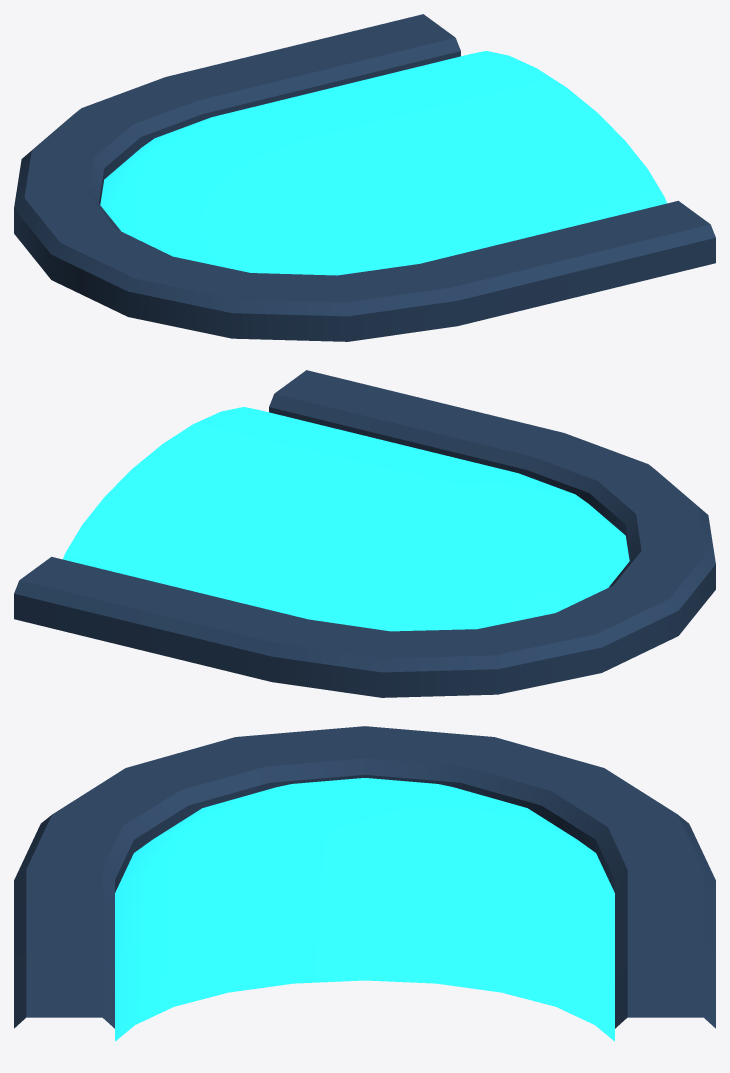
Rendered from Light_Trim_01_RoundShortEnd.glb.
The picture shows the model from 3 angles, top to bottom: view 1: azimuth 30°, elevation 25°; view 2: azimuth 150°, elevation 25°; view 3: azimuth 270°, elevation 25°; orthographic projection. The views are drawn at different scales.
Parts seen in each view (by area): view 1: Light_Trim_01_RoundShortEnd.001; view 2: Light_Trim_01_RoundShortEnd.001; view 3: Light_Trim_01_RoundShortEnd.001.
Boxes of the visible parts, x1,y1,x2,y2 form: Light_Trim_01_RoundShortEnd.001: [14, 14, 715, 341]; Light_Trim_01_RoundShortEnd.001: [14, 370, 715, 697]; Light_Trim_01_RoundShortEnd.001: [14, 726, 715, 1041].
Size of the model in its own units: 0.1 by 0.0123 by 0.1.
